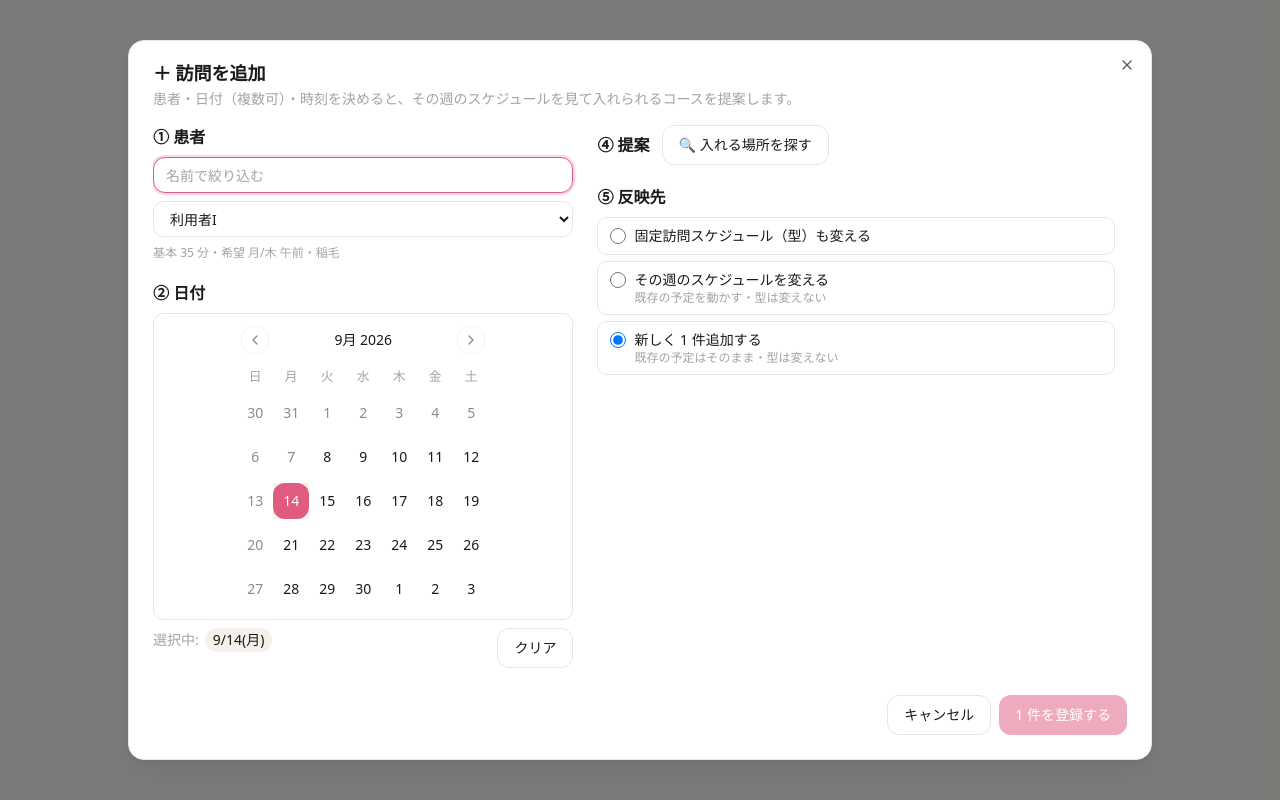
Scenario: AddVisitAnywhereDialog › M1 理由が取れなければその旨を出す
Click the button with test id "ava-propose".
click(745, 145)  # box [662,125,829,165]
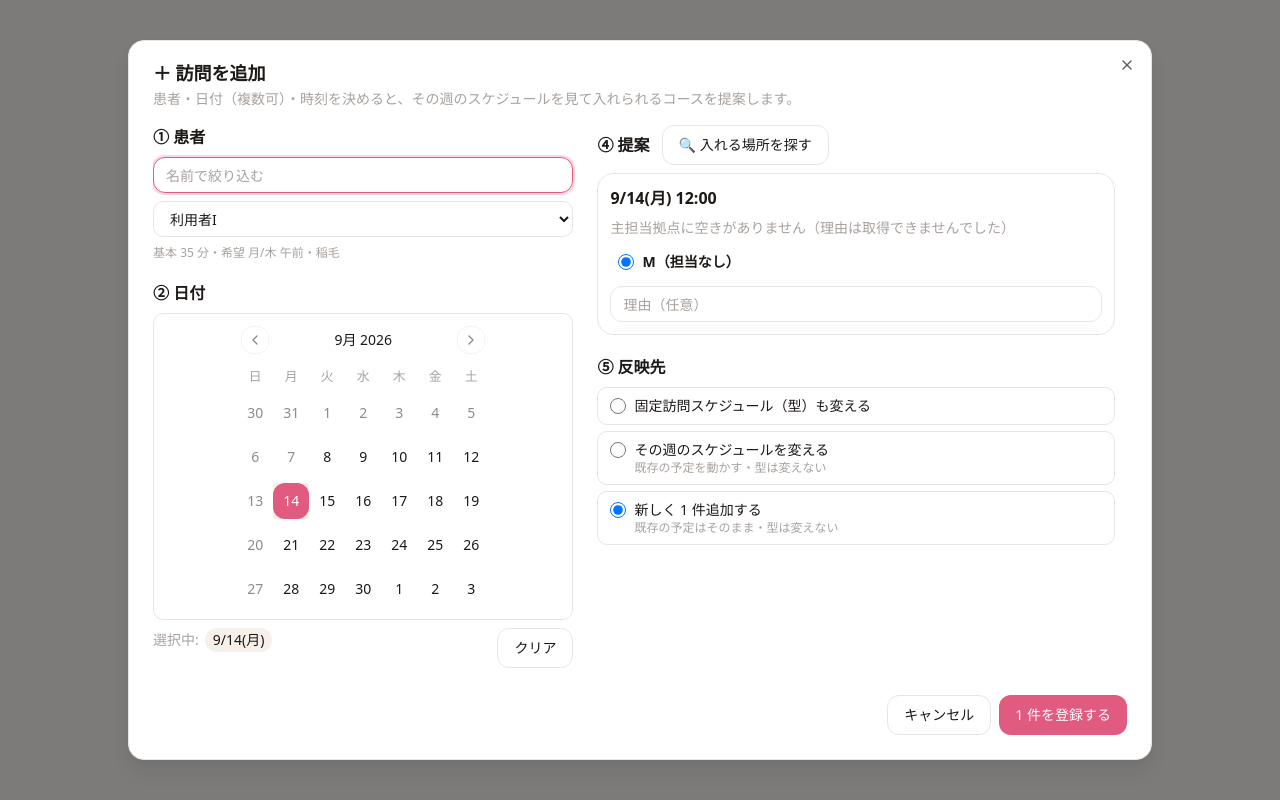
Check: the element with test id "ava-row-2026-09-14" shows "主担当拠点に空きがありません（理由は取得できませんでした）", box [597,173,1115,335]
